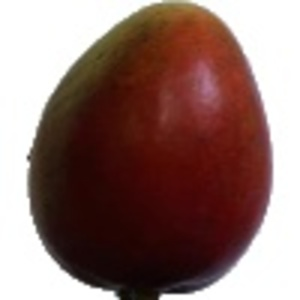manga: (27, 1, 275, 300)
